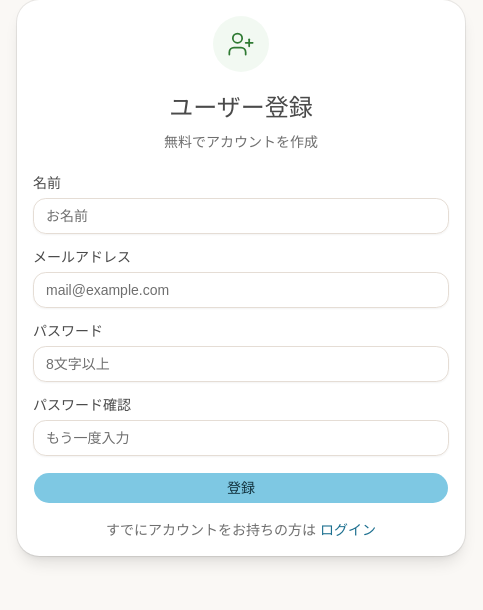
Test: RegisterForm › clears field errors on resubmit
This screenshot has width=483, height=610.
Step 1. Type "テスト" into the field labelled "名前" → (241, 216), box [33,198,449,234]
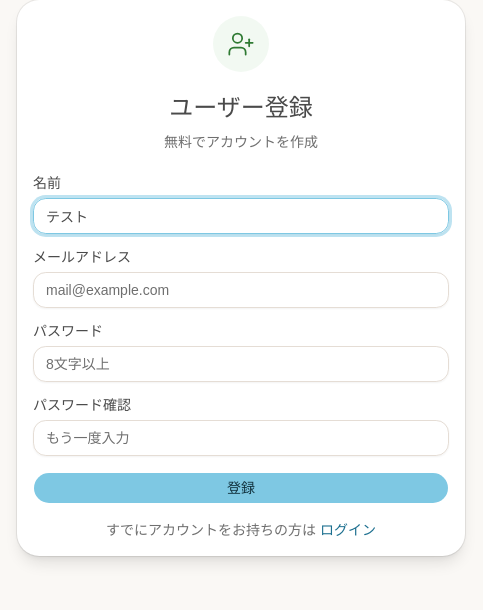
Step 2. Type "test@example.com" into the field labelled "メールアドレス" → (241, 290), box [33,272,449,308]
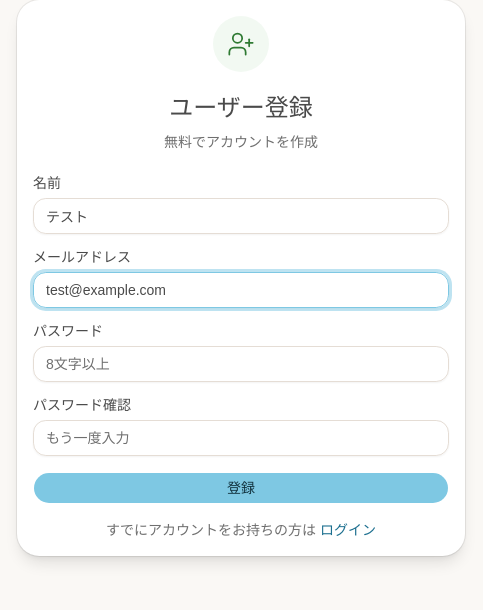
Step 3. Type "password123" into the password field labelled "パスワード" → (241, 364), box [33,346,449,382]
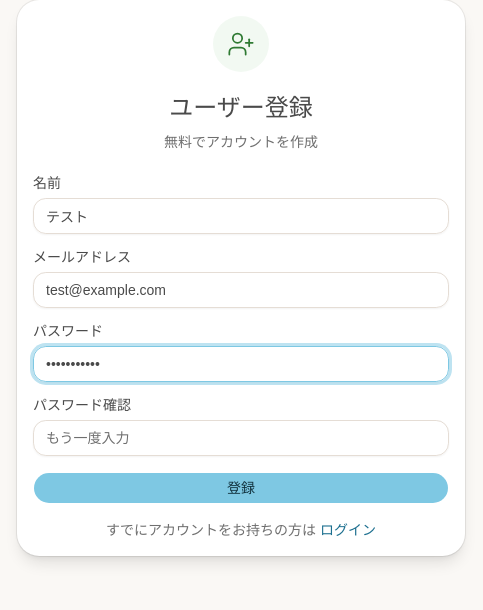
Step 4. Type "password123" into the password field labelled "パスワード確認" → (241, 438), box [33,420,449,456]
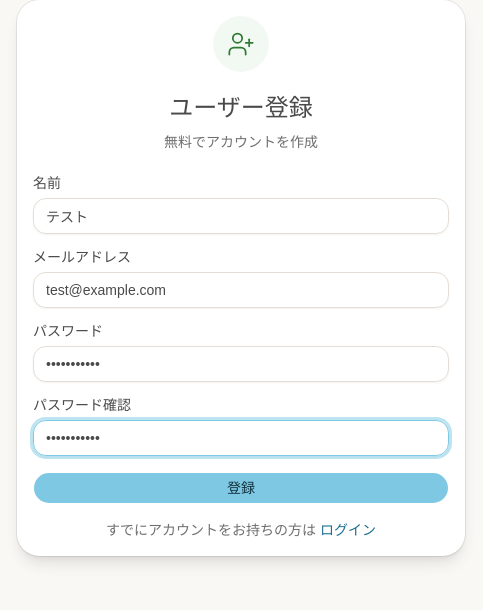
Step 5. Click the button "登録" → (241, 488), box [33,472,449,504]
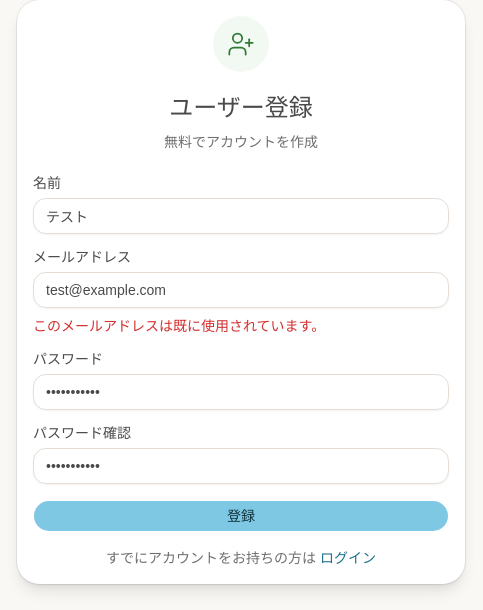
Now the text "このメールアドレスは既に使用されています。" is shown, box [33,318,325,334]
Step 6. Click the button "登録" → (241, 516), box [33,500,449,532]
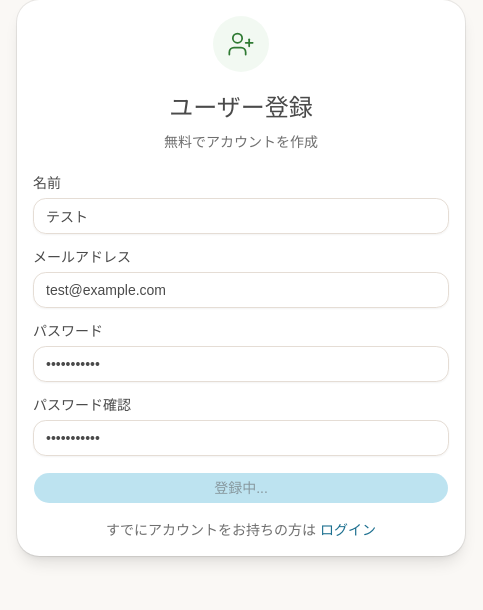
Now the text "このメールアドレスは既に使用されています。" is gone
